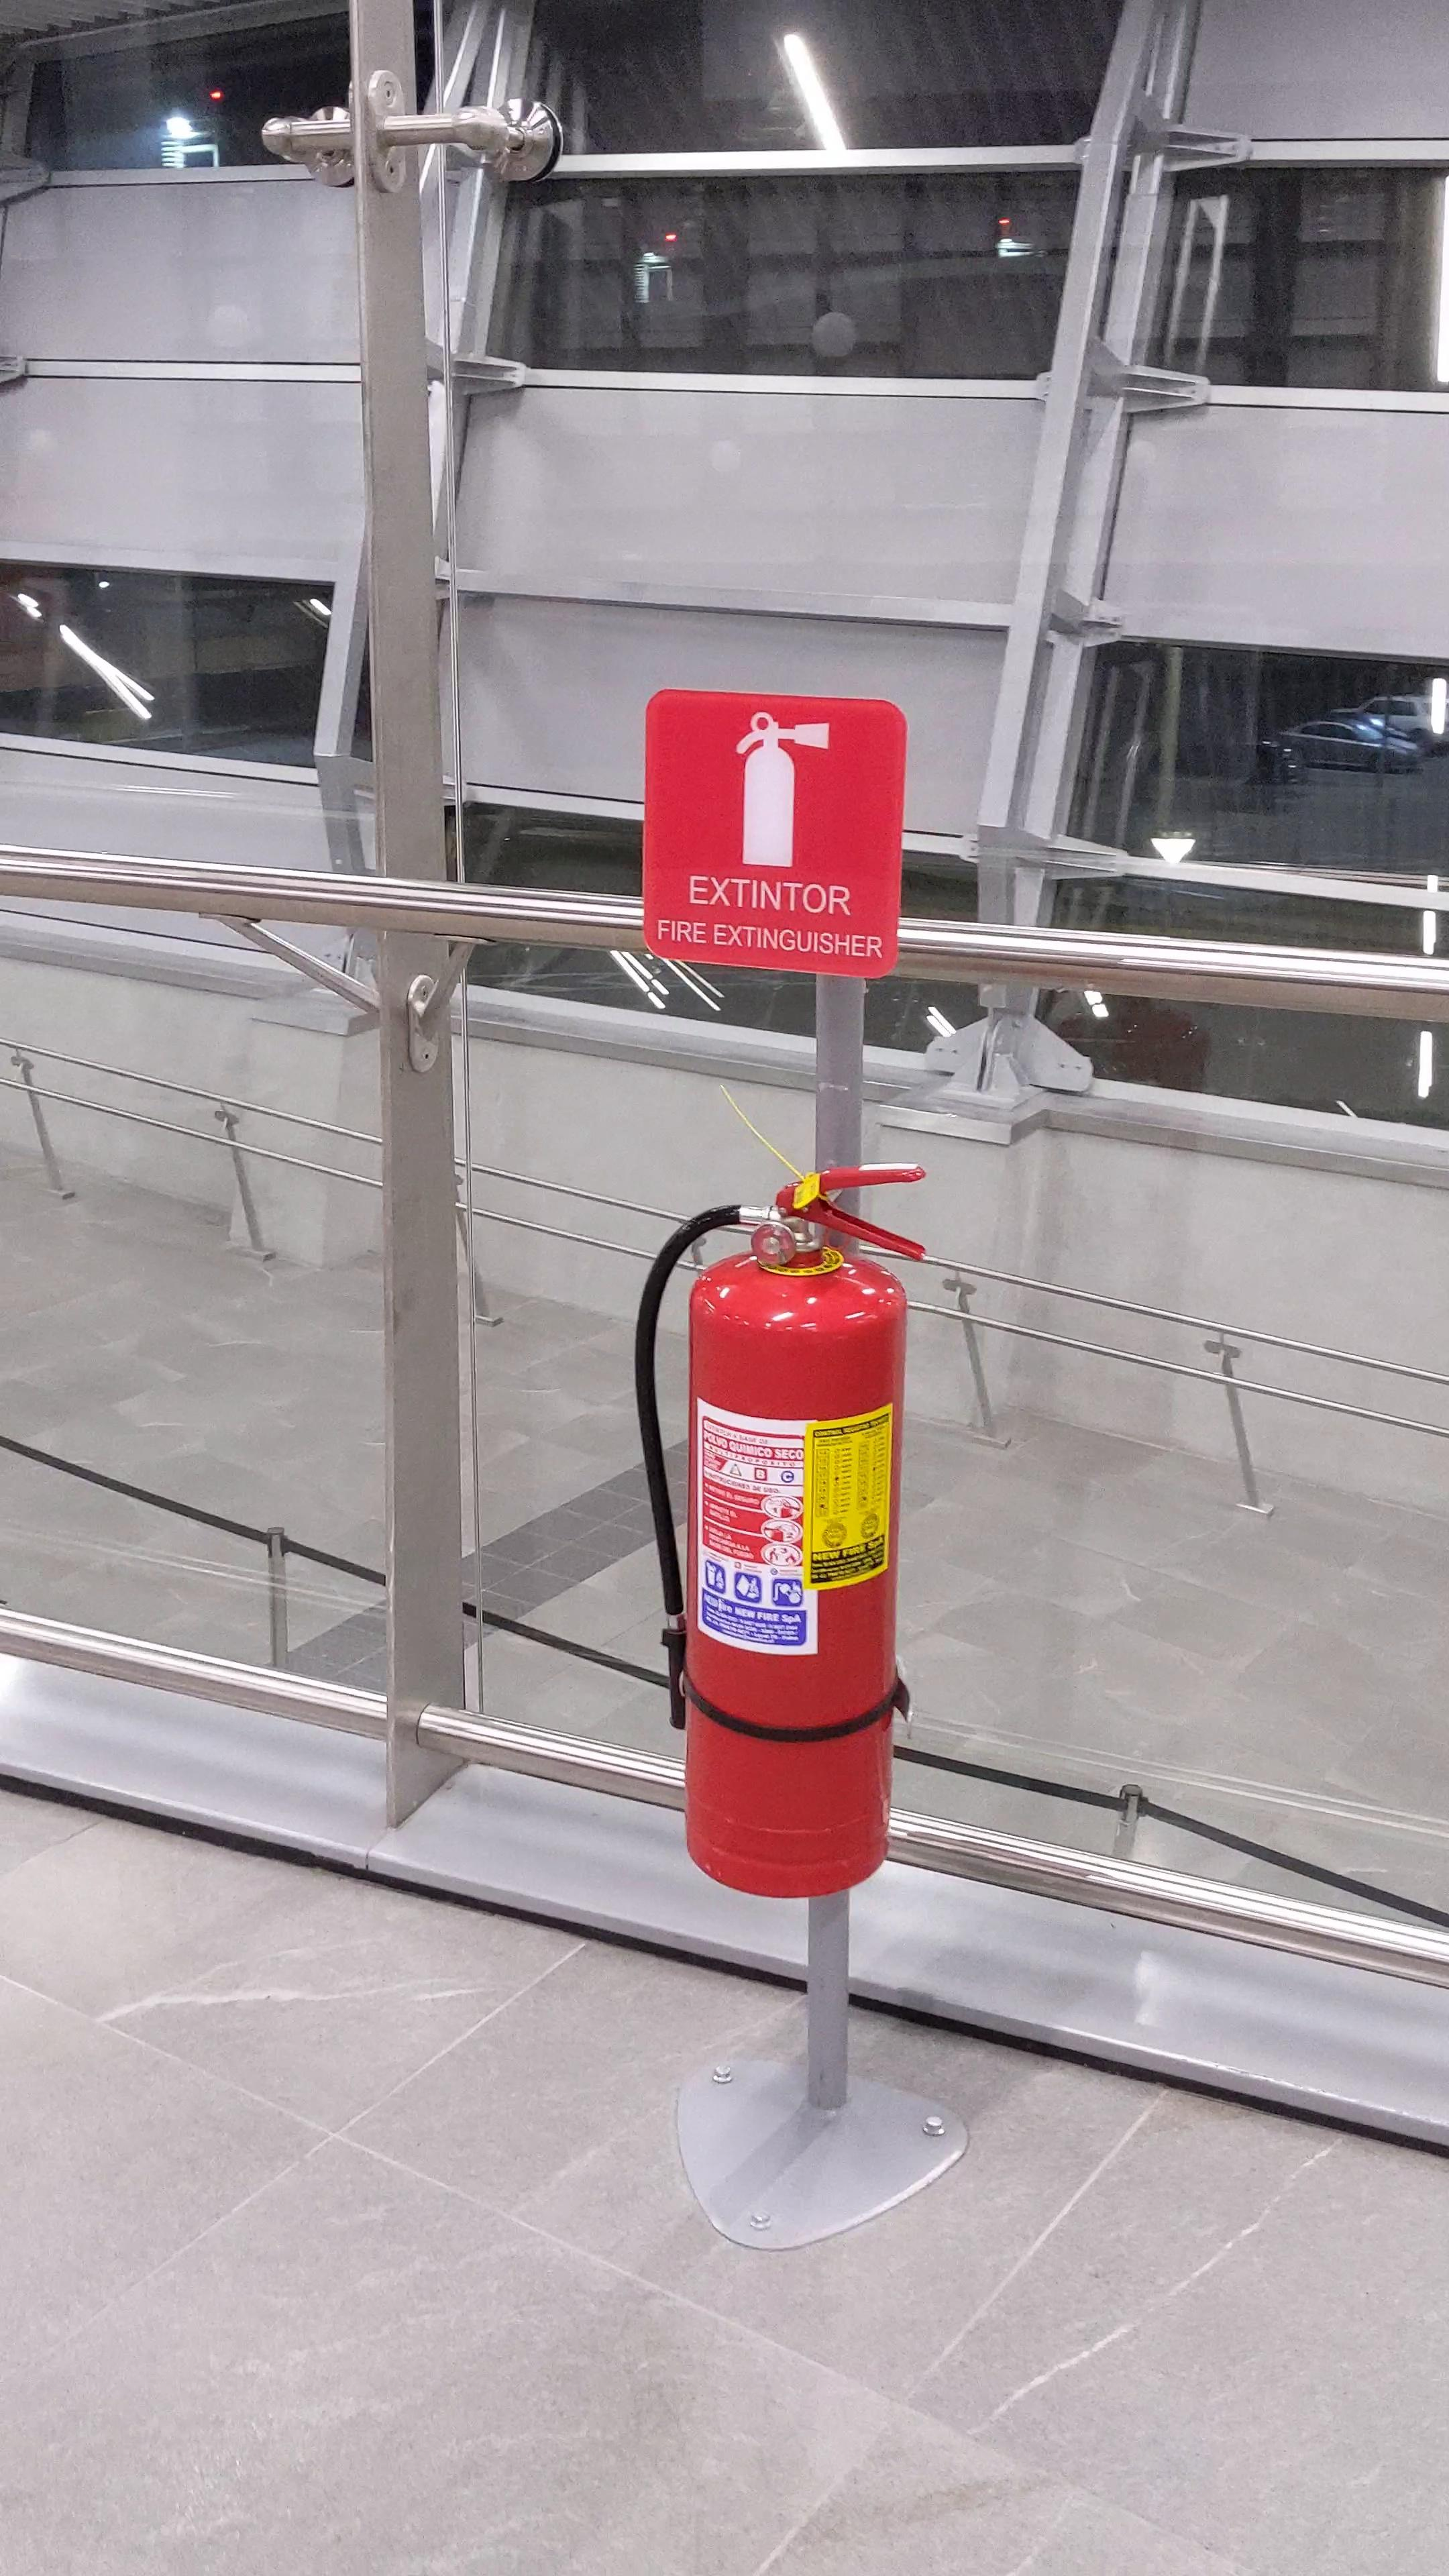extinguisher symbol: (731, 709, 833, 874)
fire-extinguisher: (621, 1141, 941, 1905)
